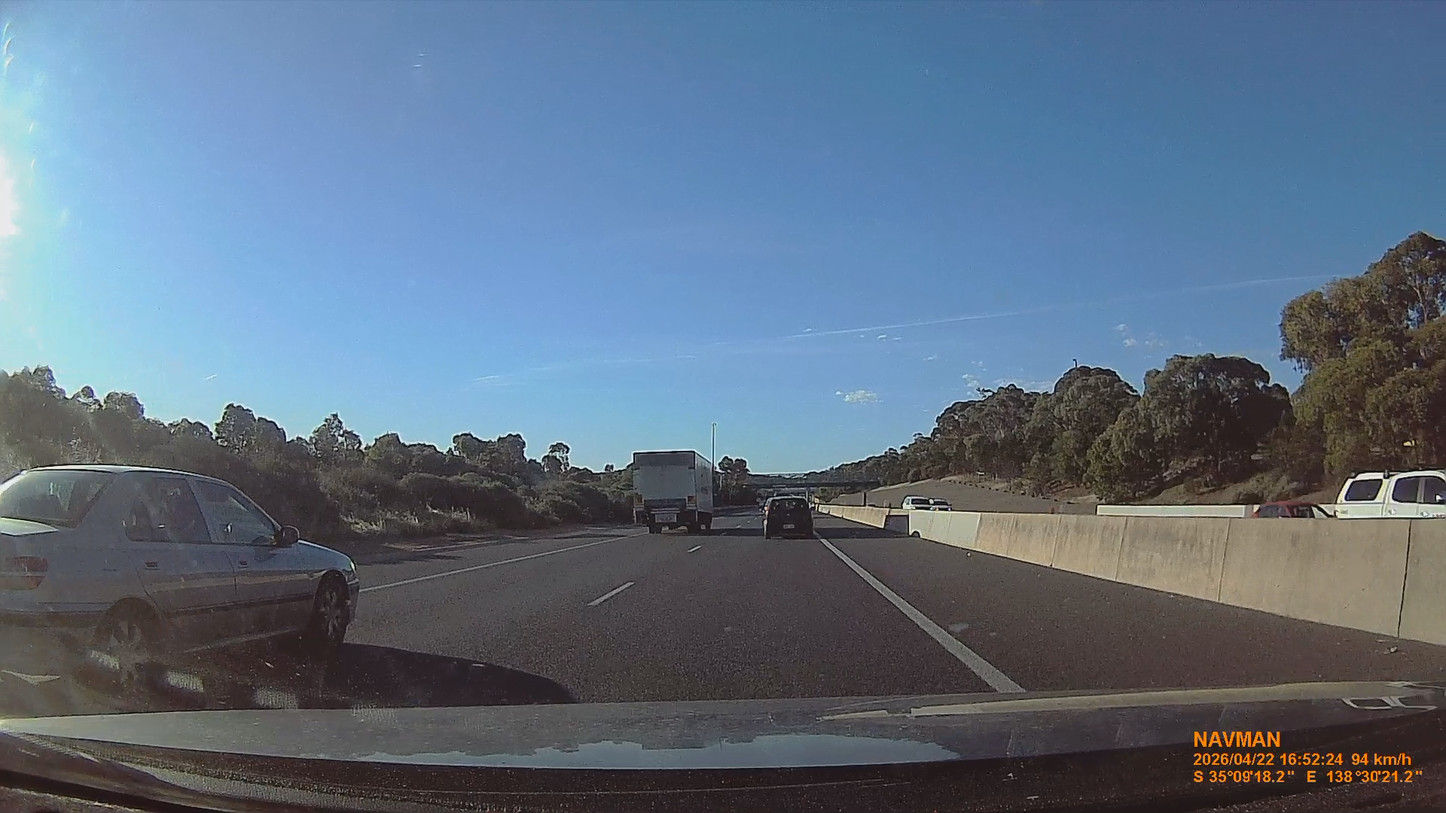road barriers: (825, 501, 1445, 641)
